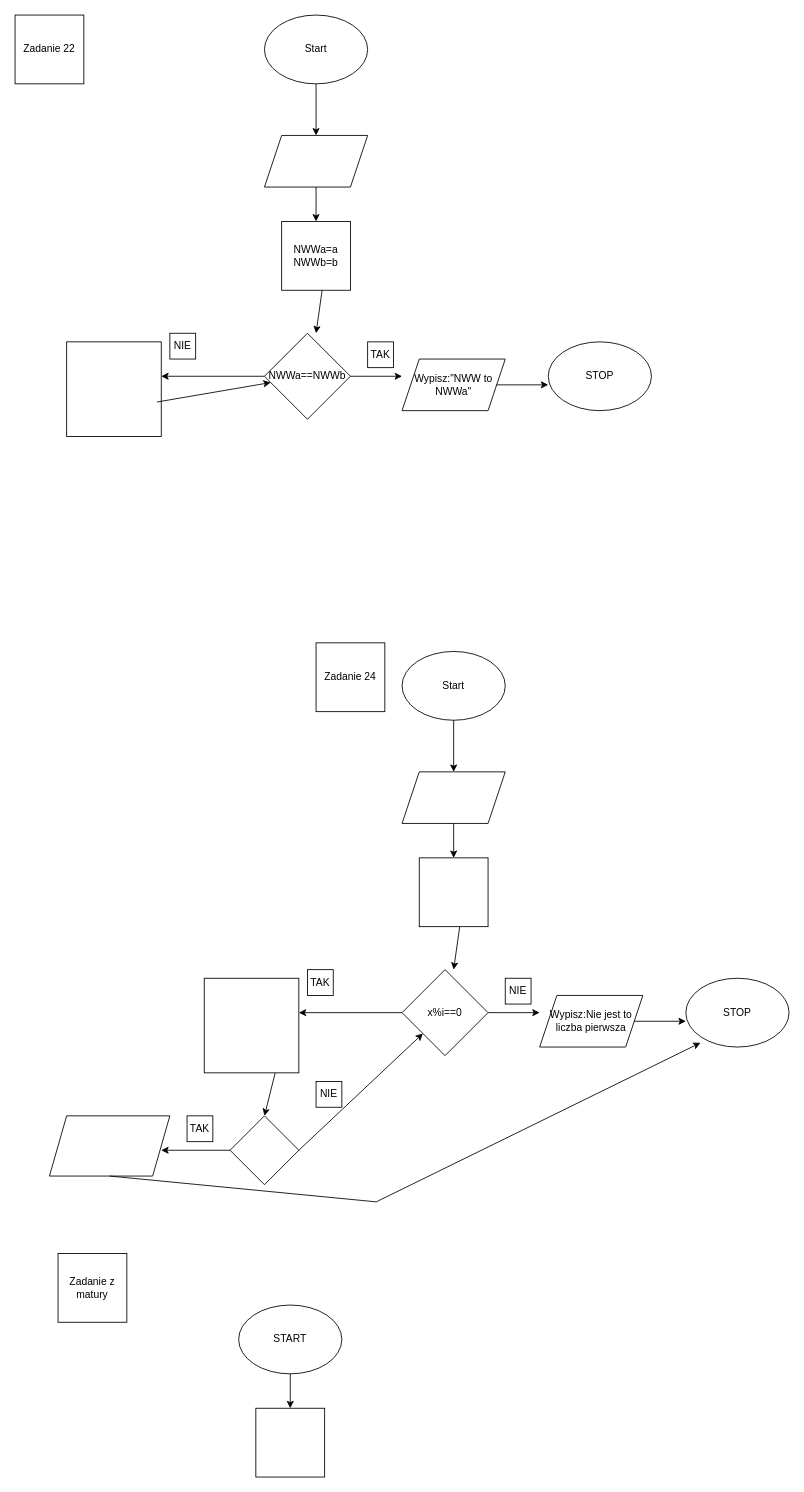
This 804x1492 diagram has some shape labels left out. The shapes that lost their labels are listed below. From the top down, each one's centre as x and y in pixels, then its label:
(316,161): Wprowadź a, b
(113,388): NWWa=NWWa+a NWWb=NWWb+b
(453,797): Wprowadź x
(453,892): i=2
(251,1025): i++
(109,1145): Wypisz jest to liczba pierwsza
(264,1150): x==i
(290,1442): a0=2 0=1
